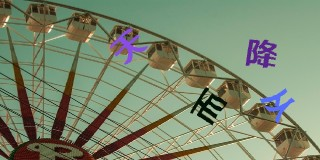从: (261, 88, 294, 123)
天: (111, 28, 147, 64)
而: (190, 87, 227, 126)
降: (245, 38, 277, 70)
